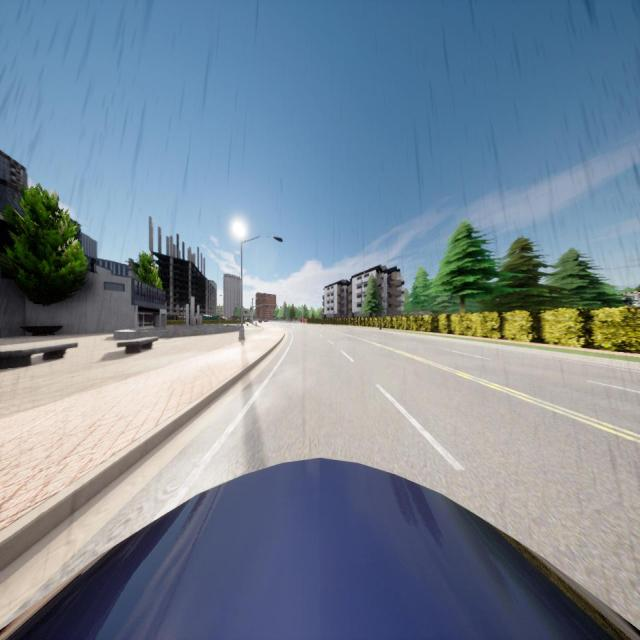Vehicle: (2, 459, 639, 640), (258, 319, 262, 323), (264, 318, 267, 322)
traffic_light: (274, 306, 276, 308), (267, 306, 268, 308), (280, 306, 281, 308)
